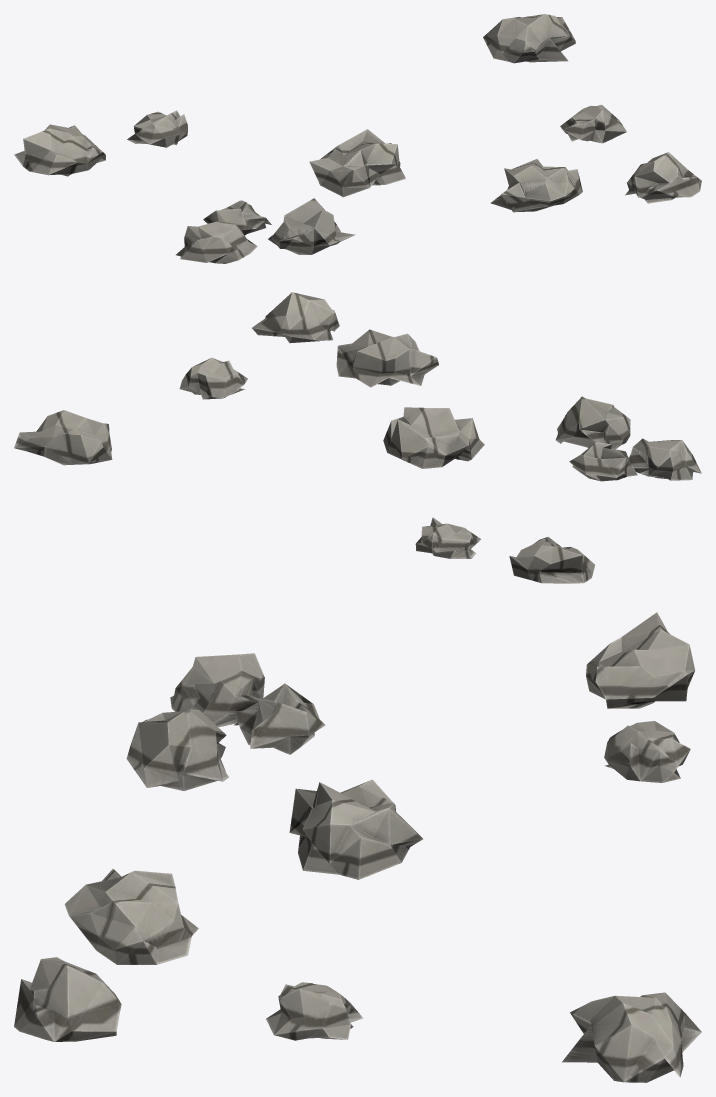
File: ford.glb
3 views of the same model, one above another, from view 1: azimuth 30°, elevation 25°; view 2: azimuth 150°, elevation 25°; view 3: azimuth 270°, elevation 25° (orthographic). The views are drawn at different scales.
Parts seen in each view (by area): view 1: ford; view 2: ford; view 3: ford.
Boxes of the visible parts, x1,y1,x2,y2 form: ford: (14,14,701,263); ford: (14,292,701,583); ford: (14,612,701,1082).
Size of the model in its own units: 8.21 by 0.5684 by 5.57.
1 material, 1 textured.
